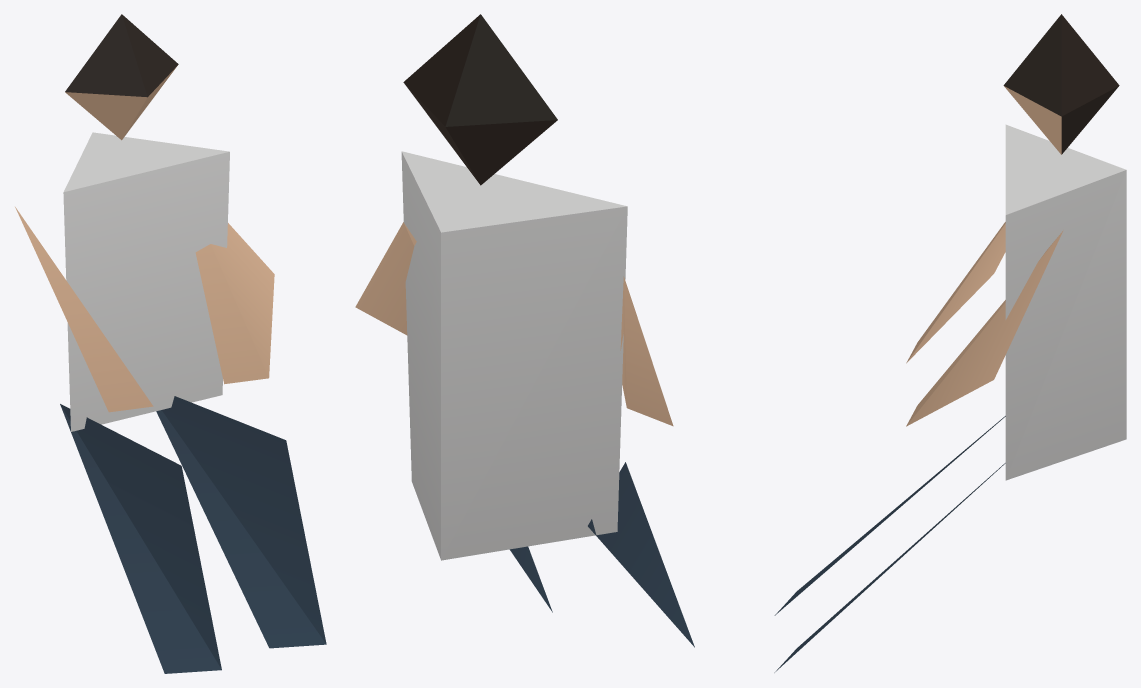
The model's file is fan-01.glb.
3 renders of one model, left to right at view 1: azimuth 30°, elevation 25°; view 2: azimuth 150°, elevation 25°; view 3: azimuth 270°, elevation 25°, orthographic. The views are drawn at different scales.
Parts seen in each view (by area): view 1: fan-01; view 2: fan-01; view 3: fan-01.
Part boxes in pixels (x1,y1,x2,y2): fan-01: [15, 14, 326, 673]; fan-01: [355, 14, 694, 647]; fan-01: [774, 14, 1126, 672].
Size of the model in its own units: 0.635 by 1.47 by 0.76.
